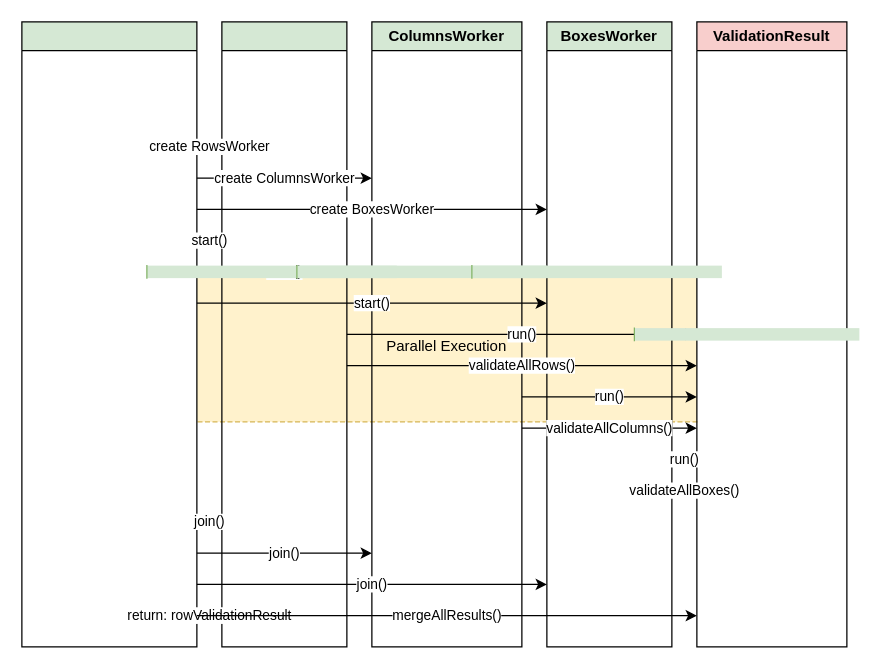
This 881x669 diagram has some shape labels left out. The centre of each missing label's shape, as x and y in pixels:
"RowsWorker" belongs at (284,334).
"ThreeThreadValidator" belongs at (109,334).
